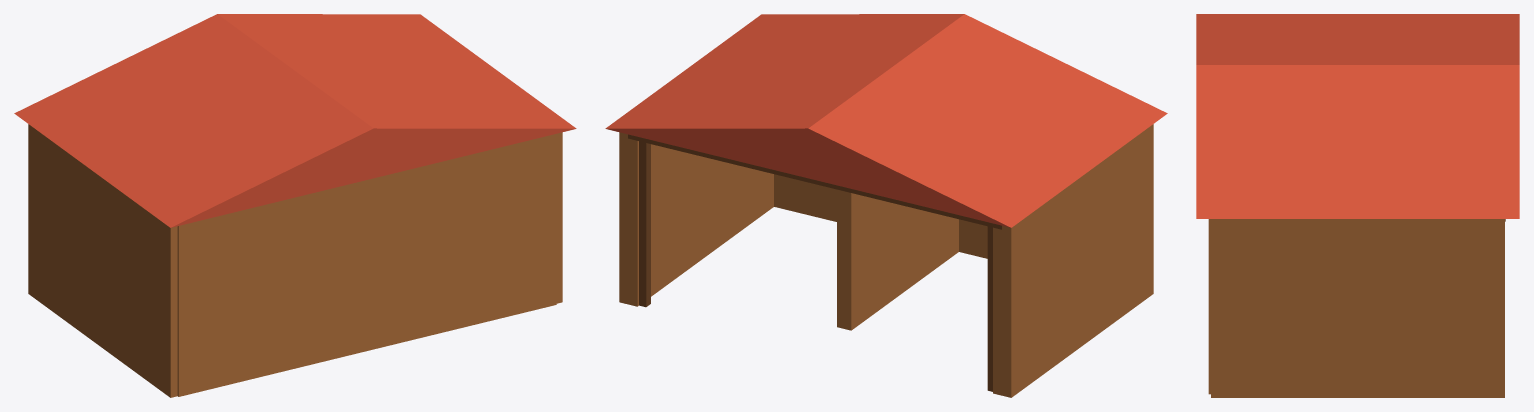
Rendered from shelter_hut_M.fbx.
3 renders of one model, left to right at view 1: azimuth 30°, elevation 25°; view 2: azimuth 150°, elevation 25°; view 3: azimuth 270°, elevation 25°, orthographic. The views are drawn at different scales.
Visible parts, largest first — view 1: shelter_hut_M; view 2: shelter_hut_M; view 3: shelter_hut_M.
Part boxes in pixels (x1,y1,x2,y2): shelter_hut_M: (14,14,576,397); shelter_hut_M: (605,14,1167,397); shelter_hut_M: (1196,14,1519,397).
Bounding box in the file's own units: 6 × 3.2 × 4.
